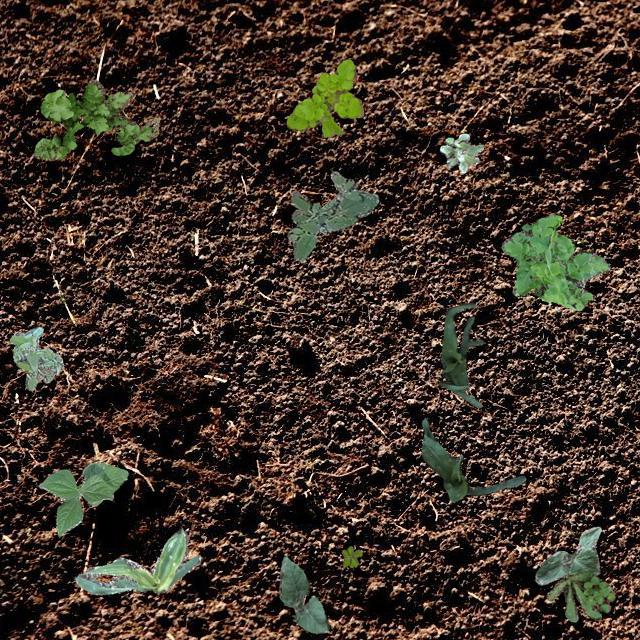crop: (420, 416, 524, 501), (74, 528, 200, 594), (37, 462, 126, 536), (438, 302, 483, 406), (278, 554, 328, 632), (534, 526, 600, 584)
weed: (500, 212, 610, 310), (34, 78, 158, 160), (286, 170, 378, 260), (286, 57, 362, 136), (8, 326, 62, 390), (546, 570, 614, 620), (438, 132, 482, 172), (341, 544, 362, 566)
